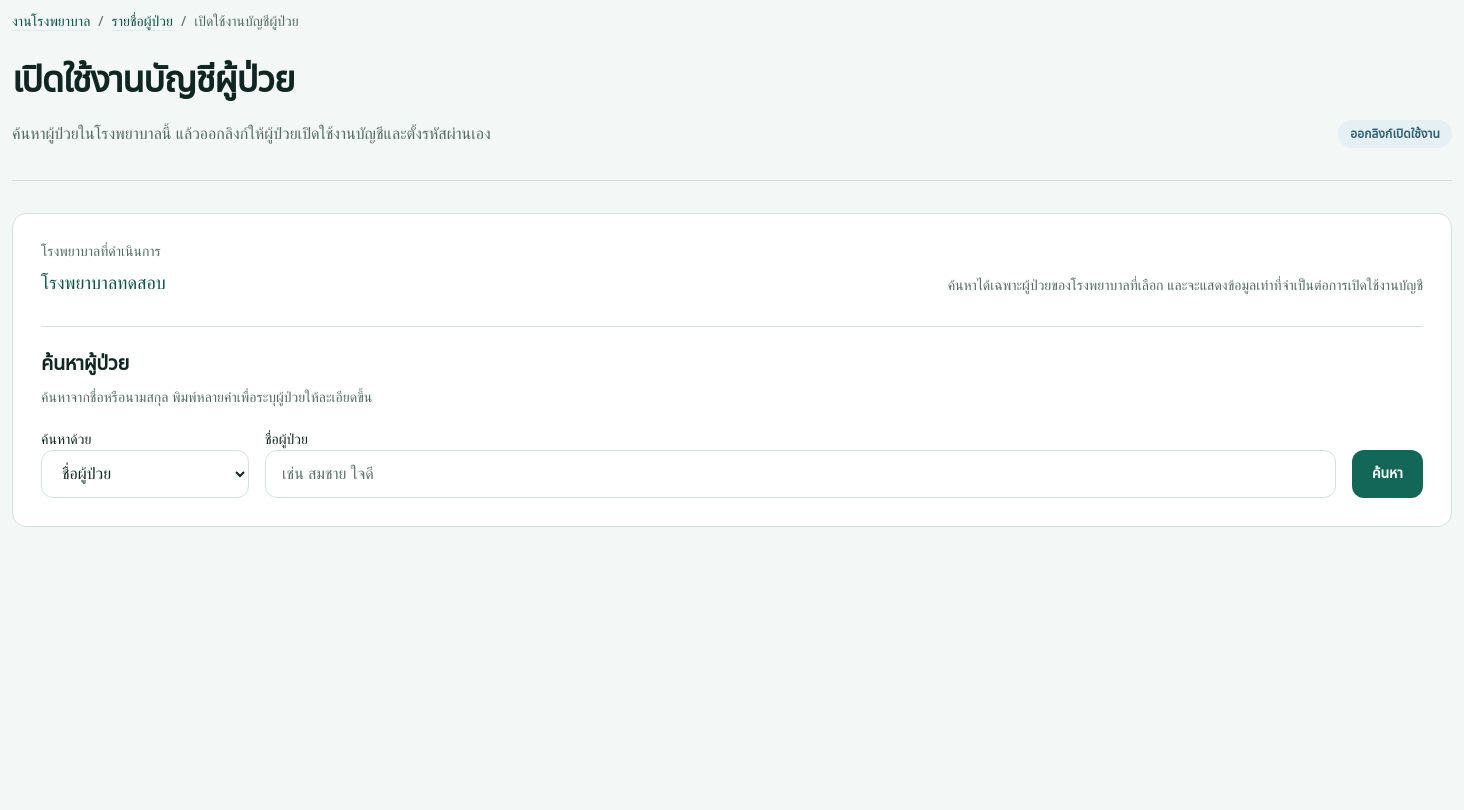
Scenario: Patient activation search and link issuance › keeps the search term after a search and shows the empty result distinctly
The width and height of the screenshot is (1464, 810).
Step 1. Type "สมชาย" into the field named "value" → (800, 474), box [265,450,1336,498]
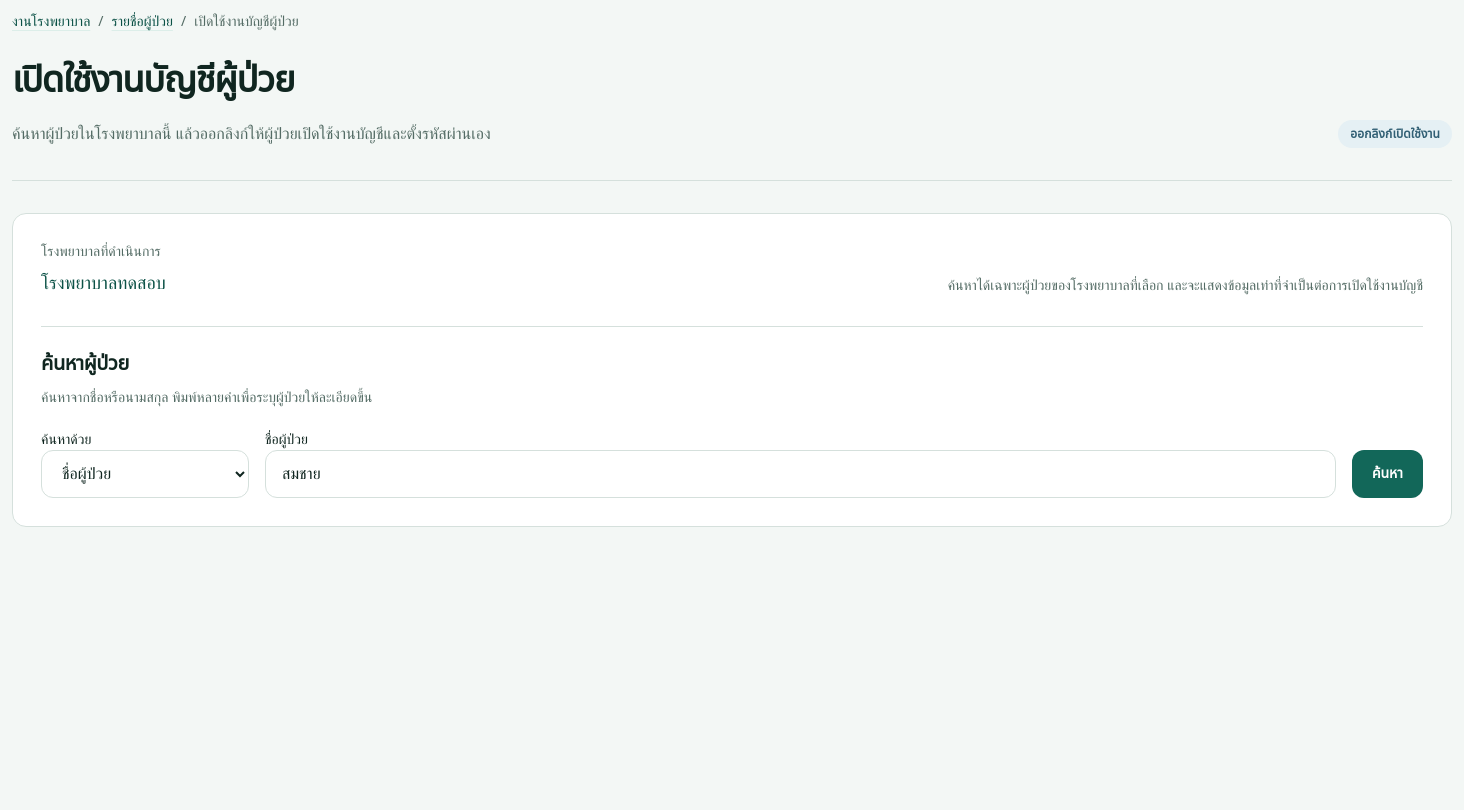
Step 2. Click the button "ค้นหา" → (1387, 474), box [1352,450,1423,498]
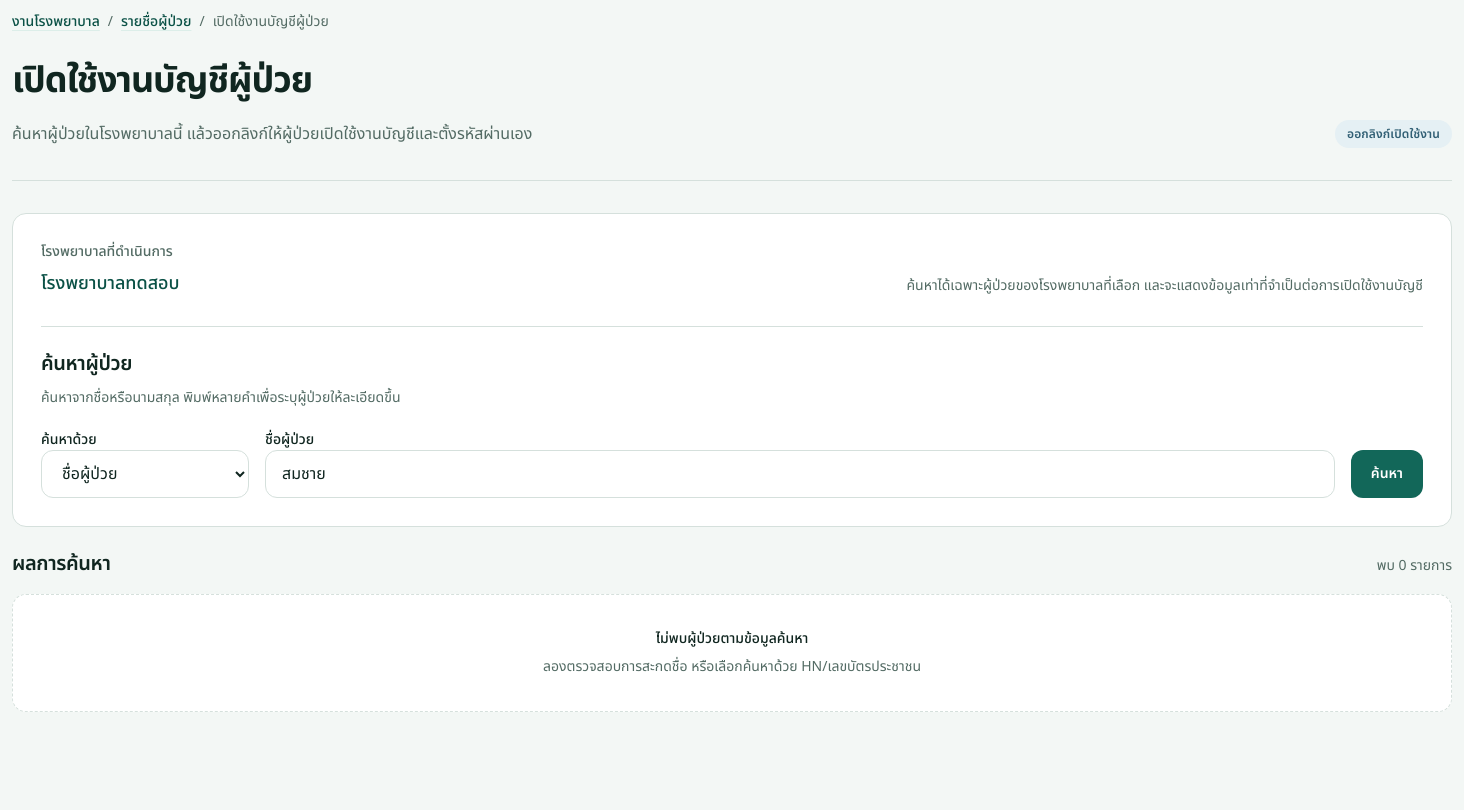
Now the text "ไม่พบผู้ป่วยตามข้อมูลค้นหา" is shown, box [656,628,808,649]
